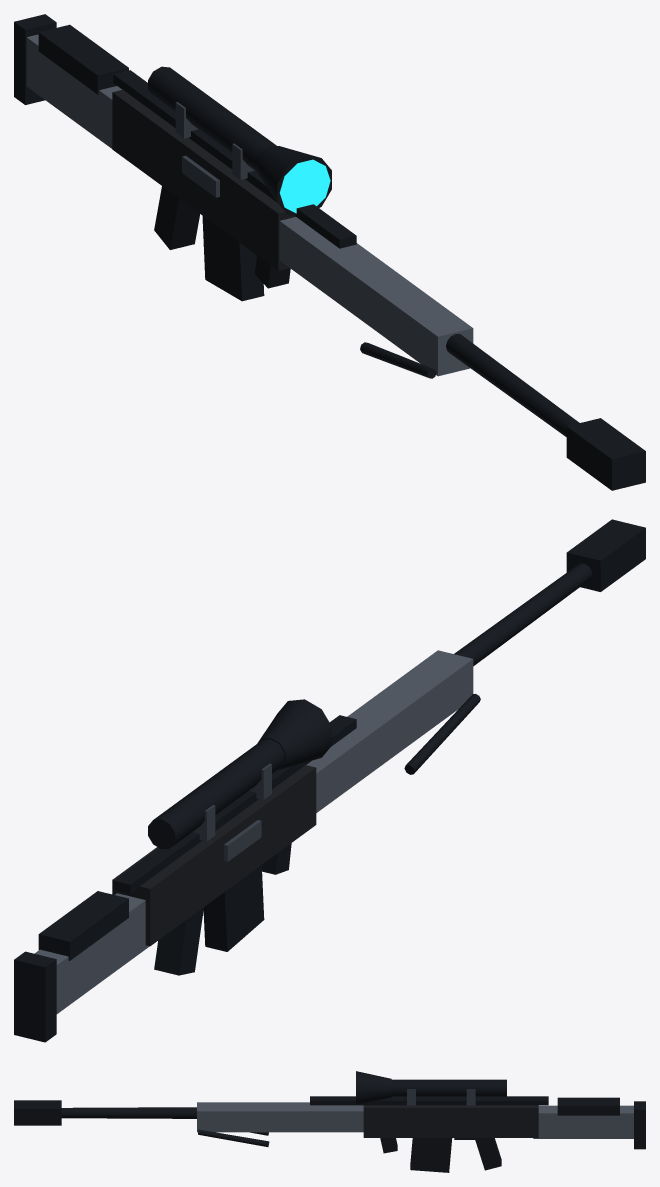
File: amr.glb
3 views of the same model, one above another, from view 1: azimuth 30°, elevation 25°; view 2: azimuth 150°, elevation 25°; view 3: azimuth 270°, elevation 25° (orthographic). The views are drawn at different scales.
Visible parts, largest first — view 1: Weapon_amr; view 2: Weapon_amr; view 3: Weapon_amr.
Part boxes in pixels (left/top/right/bottom): Weapon_amr: left=14, top=14, right=645, bottom=490; Weapon_amr: left=14, top=519, right=645, bottom=1042; Weapon_amr: left=14, top=1071, right=645, bottom=1172.
Bounding box in the file's own units: 0.084 × 0.2712 × 1.59.
